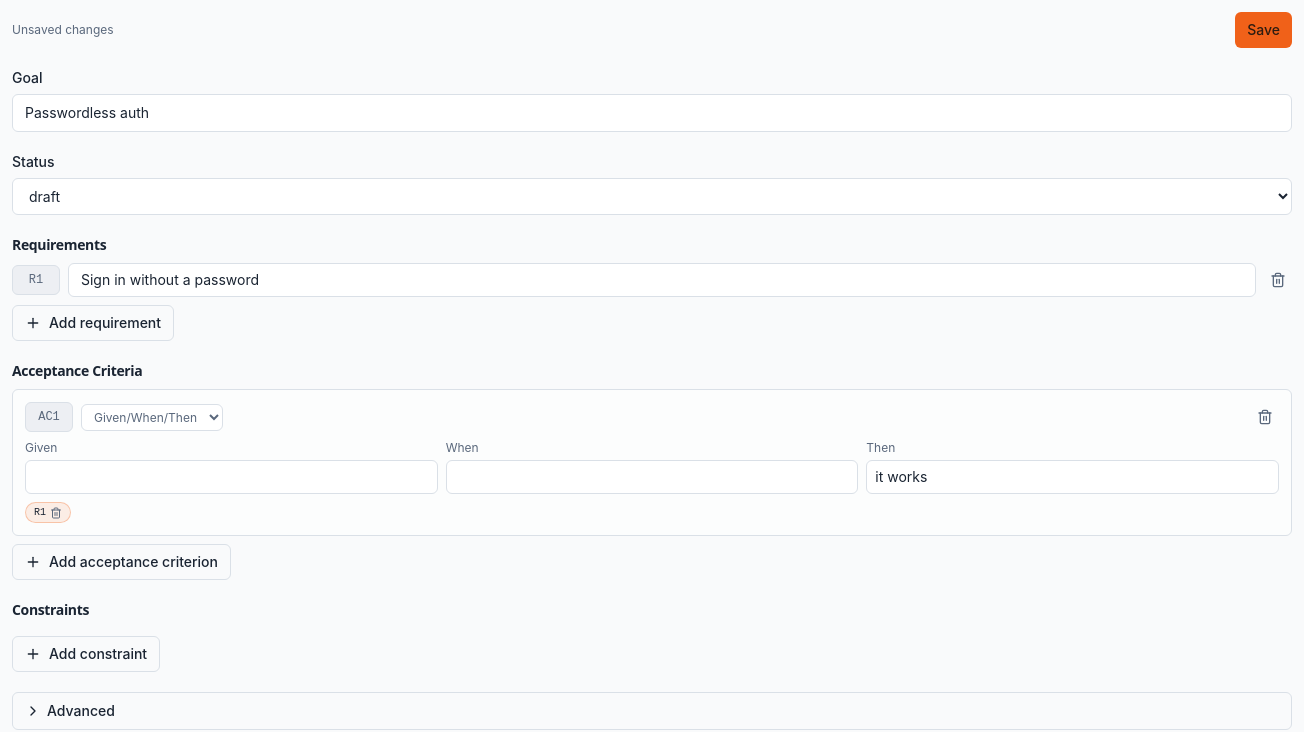
Test: GuidedMode › unlinks a requirement from an acceptance criterion
This screenshot has width=1304, height=732.
Expected: the element with test id "ac-linked-req-0-R1" is shown, [25, 502, 71, 523]
Step 1. Click the button named "Unlink R1 from AC1" → (56, 512), box [50, 506, 62, 518]
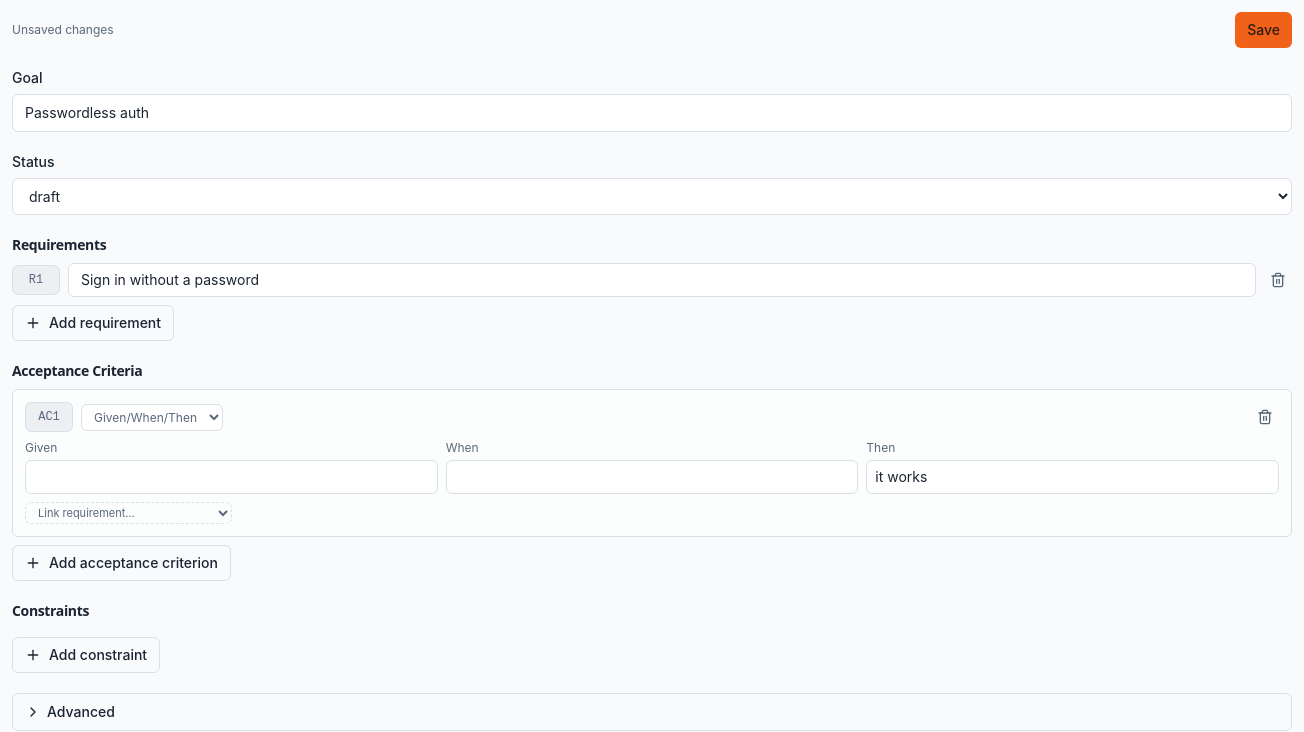
Expected: the element with test id "ac-linked-req-0-R1" is gone
